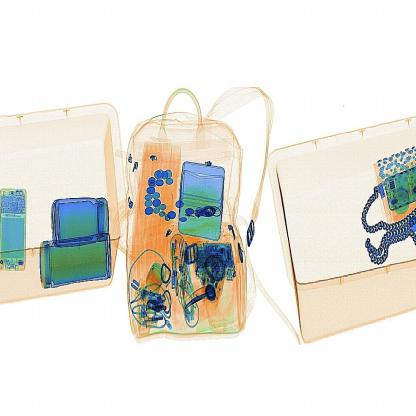pliers: (184, 282, 219, 310)
